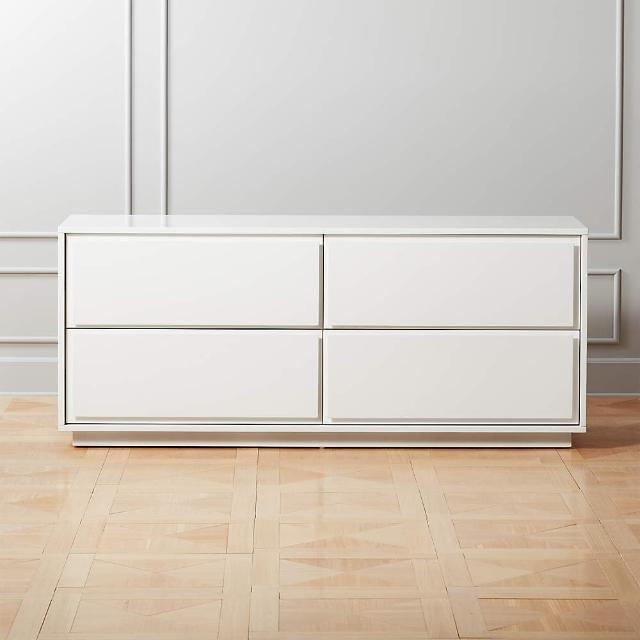dresser: (48, 202, 596, 449)
